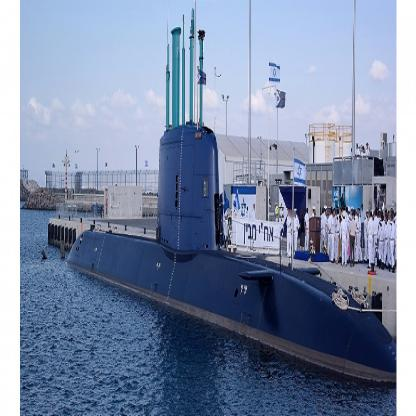Submarine: (66, 8, 396, 386)
